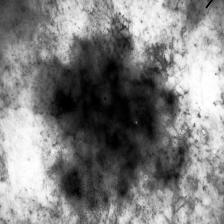Benign Marking or Mole: (44, 19, 186, 209)
